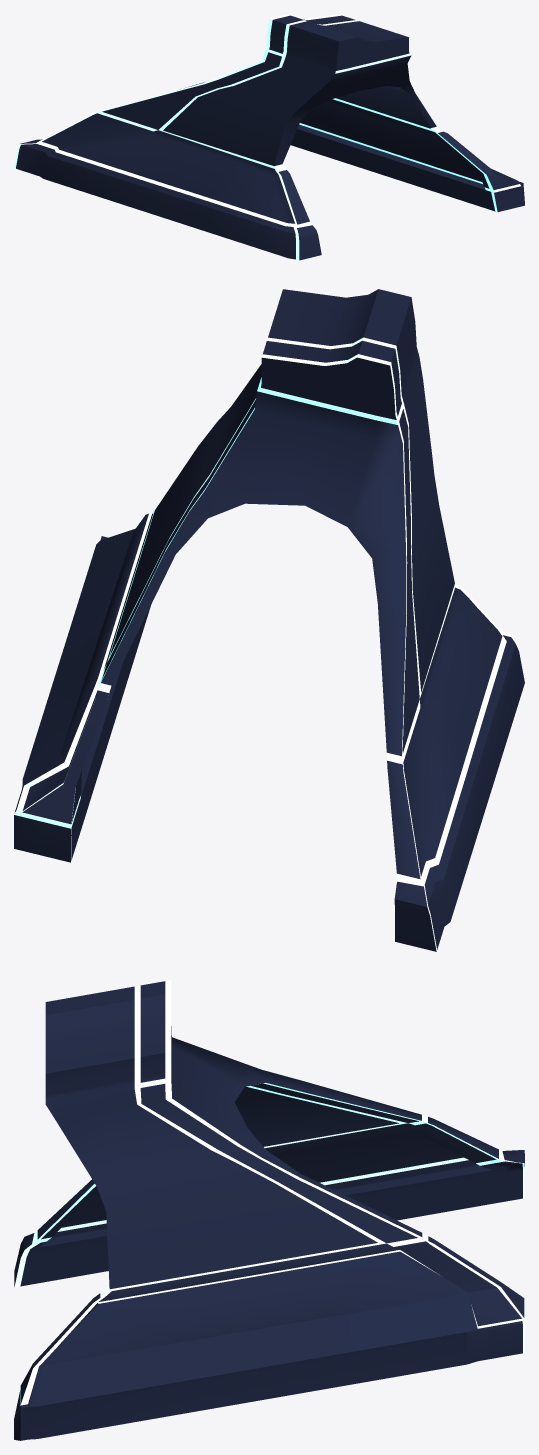
Rendered from Tower_3Ln_Angle2_.fbx.
3 renders of one model, top to bottom at view 1: azimuth 30°, elevation 25°; view 2: azimuth 150°, elevation 25°; view 3: azimuth 270°, elevation 25°, orthographic. The views are drawn at different scales.
Visible parts, largest first — view 1: Tower_3Ln_Angle2_; view 2: Tower_3Ln_Angle2_; view 3: Tower_3Ln_Angle2_.
Boxes of the visible parts, x1,y1,x2,y2 form: Tower_3Ln_Angle2_: (14,14,524,260); Tower_3Ln_Angle2_: (14,289,524,951); Tower_3Ln_Angle2_: (14,980,524,1440).
Size of the model in its own units: 2997 by 1645 by 2487.
